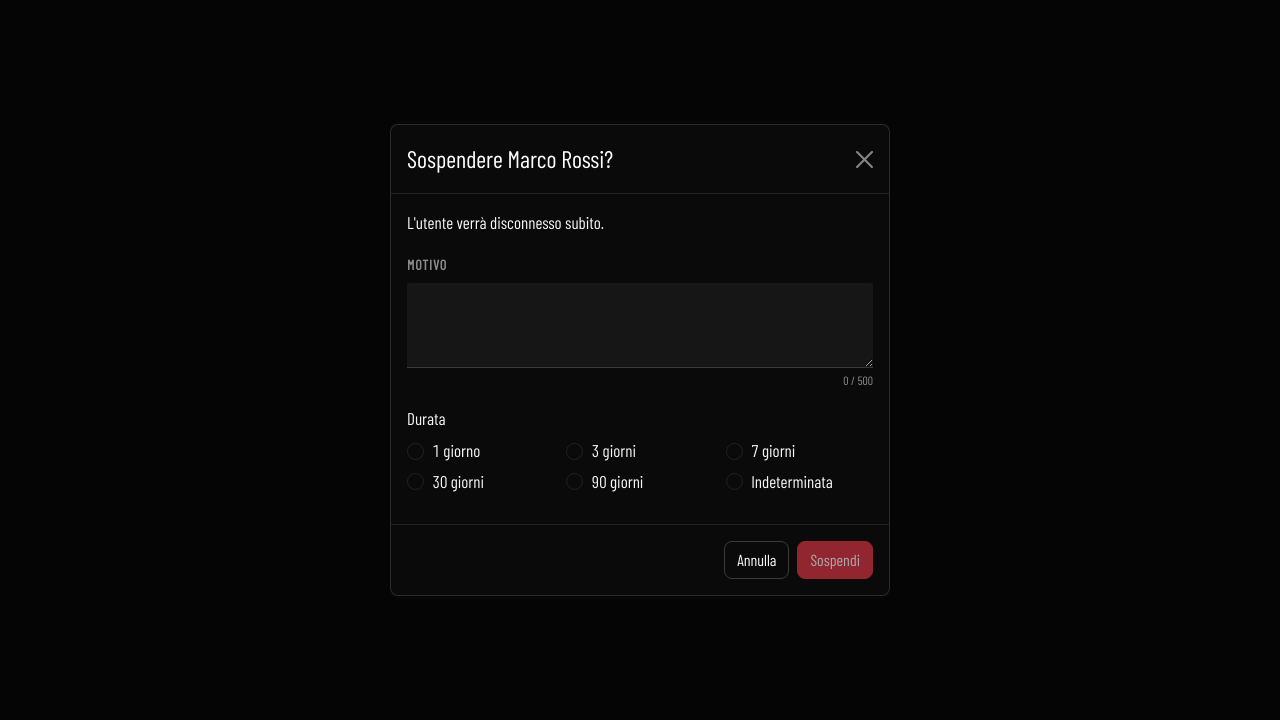
Test: SuspensionDialog › mostra l’errore del motivo dopo averlo lasciato vuoto
Expected: the text "Scrivi il motivo (massimo 500 caratteri)." is not shown
Click the text box labelled "Motivo": (640, 326) [407,283,873,368]
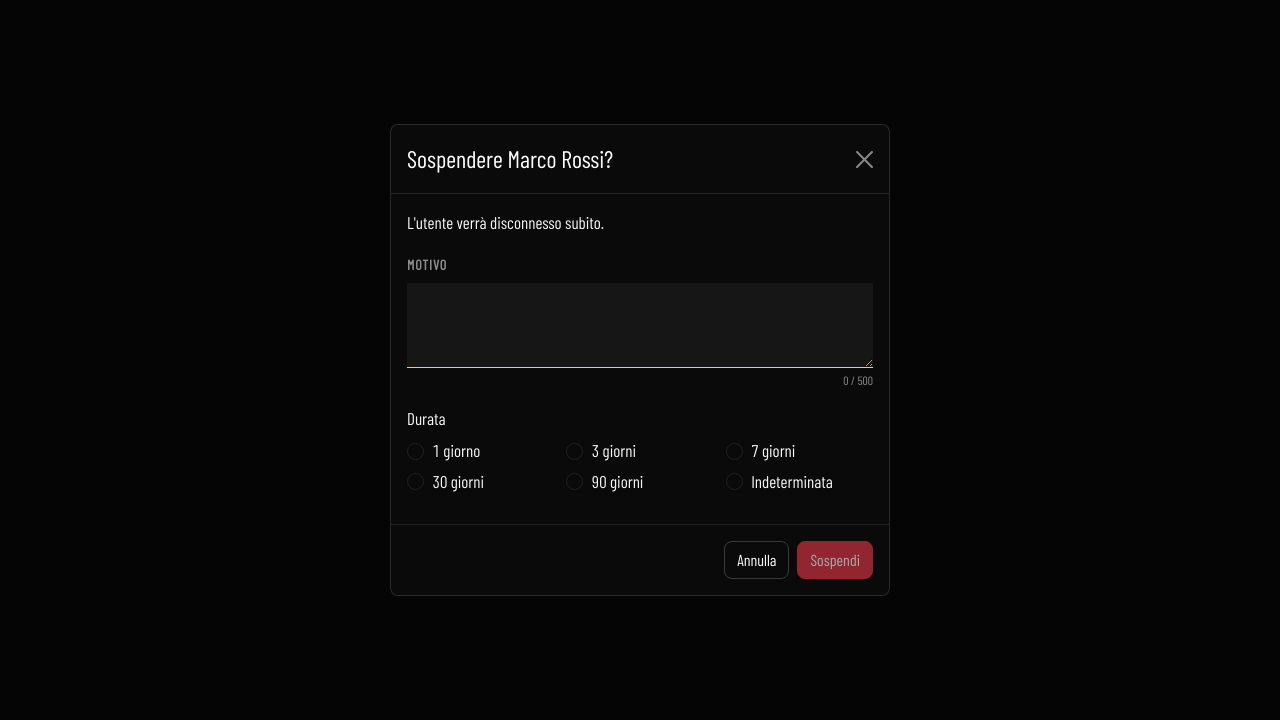
Press Tab
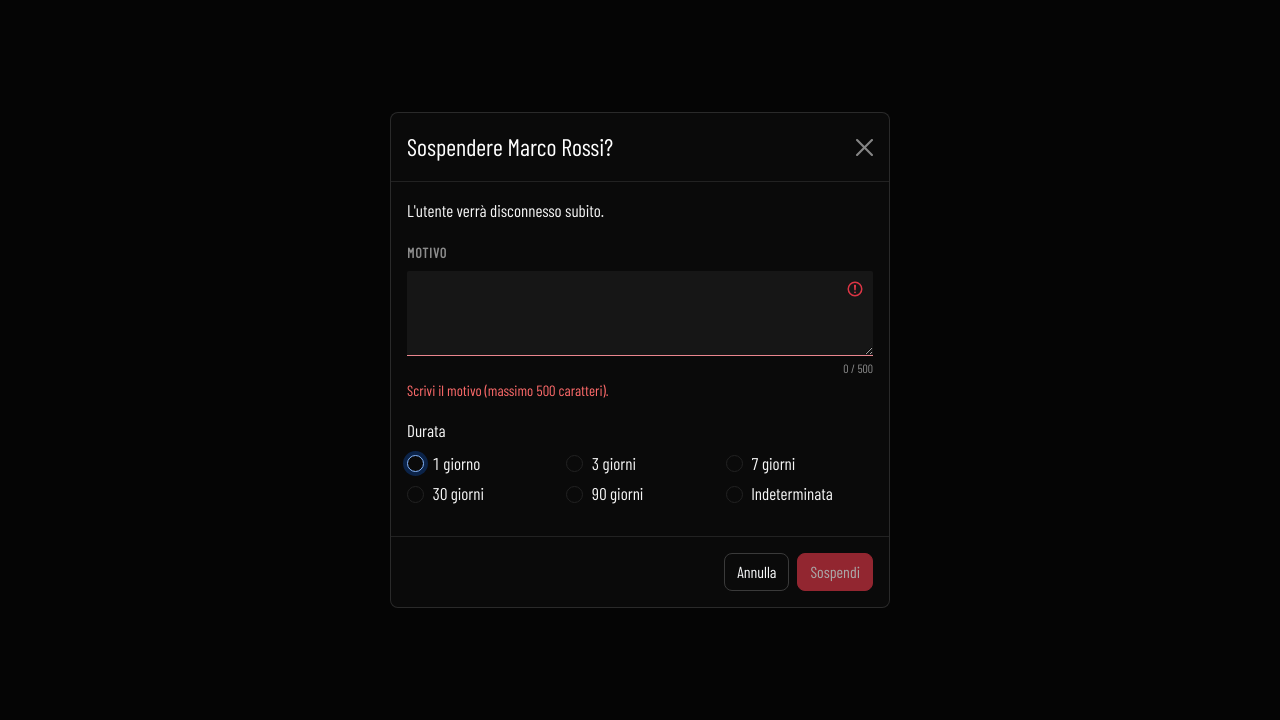
Result: the text "Scrivi il motivo (massimo 500 caratteri)." is shown at [407,381,609,399]
